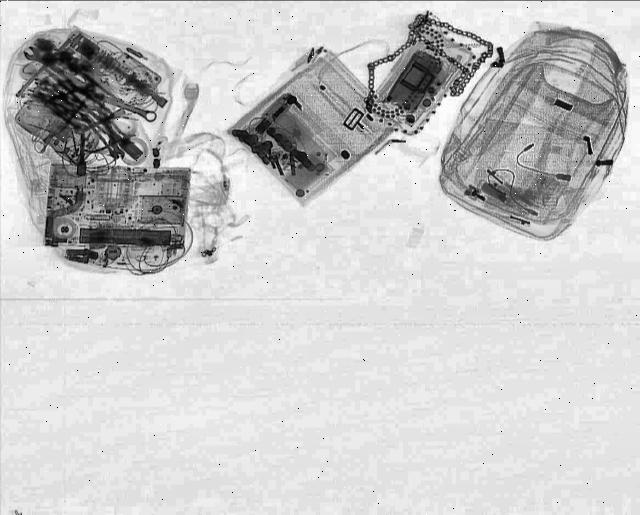Wrench: (18, 42, 84, 90), (102, 122, 126, 160)
